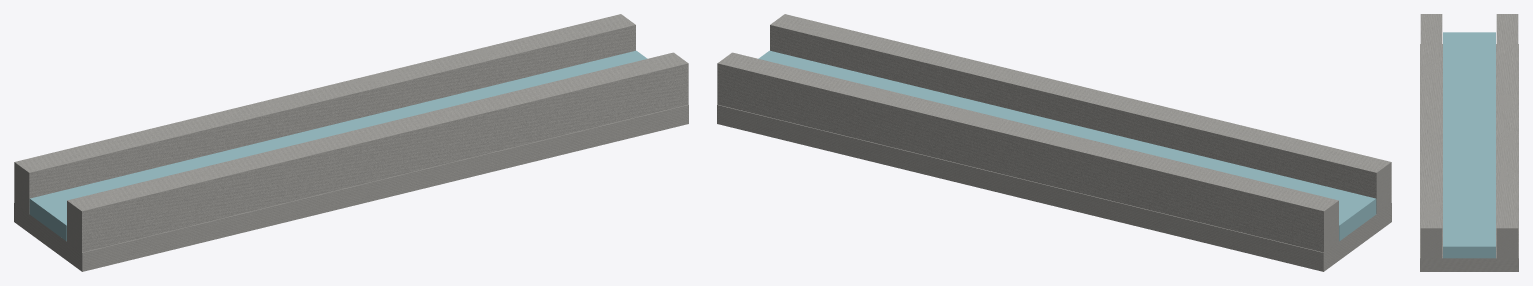
The model's file is andean-terraces-and-stone-village-irrigation-channel-r-6d315849__38235.glb.
3 renders of one model, left to right at view 1: azimuth 30°, elevation 25°; view 2: azimuth 150°, elevation 25°; view 3: azimuth 270°, elevation 25°, orthographic. The views are drawn at different scales.
Parts seen in each view (by area): view 1: irrigation-channel-run-stone, irrigation-channel-run-water; view 2: irrigation-channel-run-stone, irrigation-channel-run-water; view 3: irrigation-channel-run-stone, irrigation-channel-run-water.
Boxes of the visible parts, x1,y1,x2,y2 form: irrigation-channel-run-stone: (14,14,688,271); irrigation-channel-run-water: (29,50,647,241); irrigation-channel-run-stone: (717,14,1391,271); irrigation-channel-run-water: (758,50,1376,241); irrigation-channel-run-stone: (1420,14,1518,271); irrigation-channel-run-water: (1443,32,1495,258).
Size of the model in its own units: 4 by 0.3799 by 0.7798.
2 materials, 1 textured.
